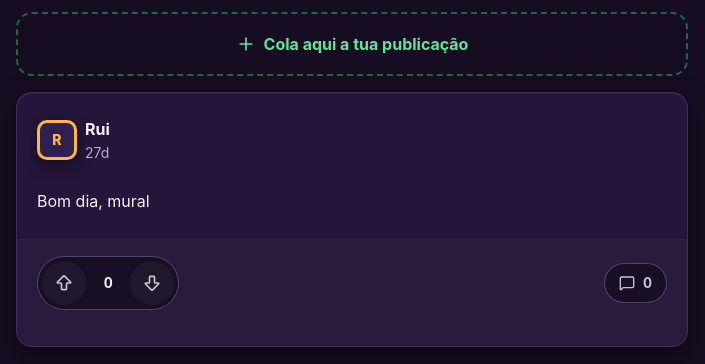
HubFeedModule › rolls the upvote back when the server refuses it
Click the button named "Upvote": [64, 283] box [42, 261, 86, 305]
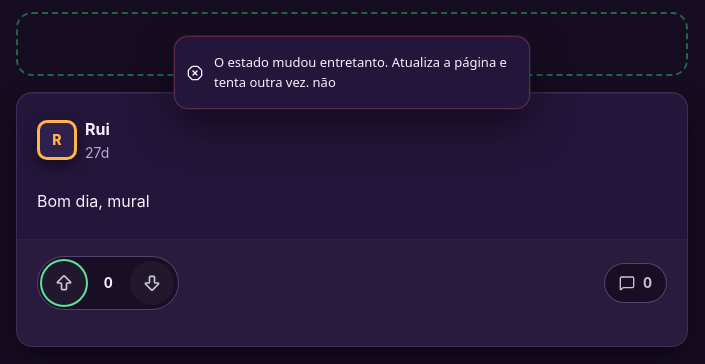
Check: the text "O estado mudou entretanto" is shown, box [214, 53, 507, 90]
